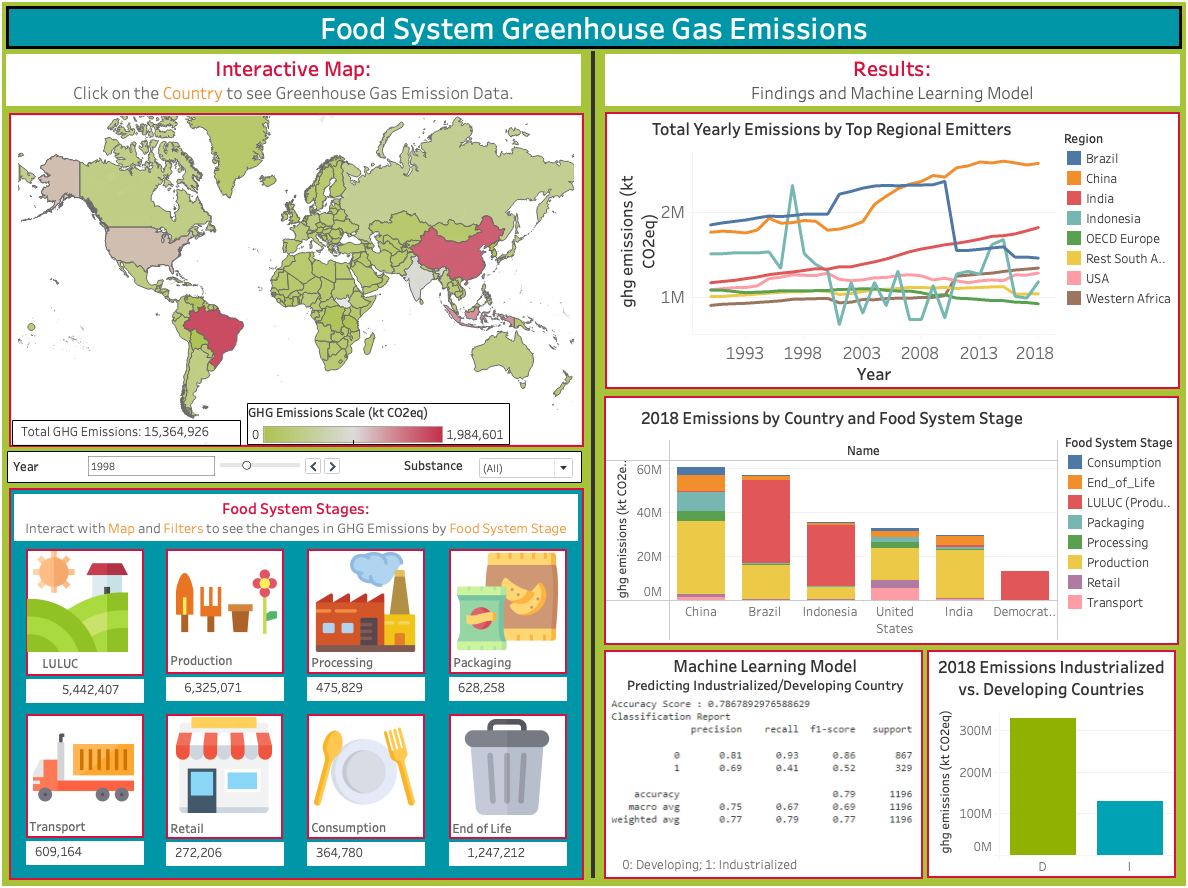

Layout of this report page (visuals, bound fields, positions):
{"tool":"tableau","page":{"name":"Food System Greenhouse Gas Emissions","canvas":[1200,900],"ordinal":0},"visuals":[{"type":"title","box":[8,8,1184,51]},{"type":"blank","box":[597,57,4,827]},{"type":"text","box":[12,60,575,52]},{"type":"text","box":[611,60,575,52]},{"type":"blank","box":[611,118,575,277]},{"type":"worksheet","title":"Yearly Emissions Heatmap","mark":"Automatic","box":[15,119,575,334]},{"type":"worksheet","title":"GhG Emissions Total grouped by year","mark":"Automatic","rows":["ghg_emissions (kt CO2eq)"],"cols":["year"],"box":[614,120,448,271]},{"type":"legend","title":"GhG Emissions Total grouped by year","param":"[federated.14hubyx009gc2x13z5pop1h8nzz4].[none:Region:nk]","box":[1070,136,112,225]},{"type":"blank","box":[610,402,575,249]},{"type":"legend","title":"Yearly Emissions Heatmap","param":"[federated.14hubyx009gc2x13z5pop1h8nzz4].[sum:ghg_emissions (kt CO2eq):qk]","box":[253,409,263,42]},{"type":"worksheet","title":"Top 5 Emitters by Food System Stage","mark":"Automatic","rows":["ghg_emissions (kt CO2eq)"],"cols":["Top Emitters by Country","Calculation_2232870681736089600","Name"],"box":[612,409,452,238]},{"type":"worksheet","title":"Summary","mark":"Automatic","box":[18,426,229,26]},{"type":"legend","title":"Top 5 Emitters by Food System Stage","param":"[federated.14hubyx009gc2x13z5pop1h8nzz4].[none:Food_System_Stage:nk]","box":[1071,440,112,200]},{"type":"blank","box":[13,457,575,32]},{"type":"filter","title":"Yearly Emissions Heatmap","param":"[federated.14hubyx009gc2x13z5pop1h8nzz4].[none:Substance:nk]","box":[410,461,172,26]},{"type":"filter","title":"Yearly Emissions Heatmap","param":"[federated.14hubyx009gc2x13z5pop1h8nzz4].[yr:year:ok]","box":[19,462,331,23]},{"type":"blank","box":[15,494,575,392]},{"type":"text","box":[20,500,564,47]},{"type":"text","box":[615.6,506.2,546.8,72]},{"type":"text","box":[390,528,63,19]},{"type":"blank","box":[32,555,118,127]},{"type":"blank","box":[172,555,118,125]},{"type":"blank","box":[313,555,118,125]},{"type":"blank","box":[455,555,118,125]},{"type":"image","param":"Image/farm.png","box":[33,557,102,101]},{"type":"image","param":"Image/tools.png","box":[182,557,102,101]},{"type":"image","param":"Image/factory.png","box":[321,557,102,101]},{"type":"image","param":"Image/snacks.png","box":[462,557,103,101]},{"type":"text","box":[174,650,105,33]},{"type":"text","box":[315,651,104,34]},{"type":"text","box":[457,651,104,34]},{"type":"text","box":[46,653,104,33]},{"type":"image","param":"Image/2018.png","box":[610,656,319,229]},{"type":"worksheet","title":"Industrialized Vs Developing","mark":"Bar","rows":["ghg_emissions (kt CO2eq)"],"cols":["Country_class"],"box":[933,656,249,228]},{"type":"text","box":[619,659,305,43]},{"type":"worksheet","title":"Production","mark":"Automatic","box":[172,683,118,24]},{"type":"worksheet","title":"Processing","mark":"Automatic","box":[313,683,118,24]},{"type":"worksheet","title":"Packaging","mark":"Automatic","box":[455,683,118,24]},{"type":"worksheet","title":"LULUC","mark":"Automatic","box":[32,685,118,24]},{"type":"blank","box":[32,720,118,124]},{"type":"blank","box":[172,720,117,125]},{"type":"blank","box":[313,720,118,125]},{"type":"blank","box":[455,720,118,125]},{"type":"image","param":"Image/894483.png","box":[320,722,102,101]},{"type":"image","param":"Image/tank-truck.png","box":[39,723,102,101]},{"type":"image","param":"Image/store.png","box":[182,723,96,97]},{"type":"image","param":"Image/bin.png","box":[465,724,96,98]},{"type":"text","box":[33,815,104,34]},{"type":"text","box":[315,816,104,34]},{"type":"text","box":[174,817,104,34]},{"type":"text","box":[456,818,104,33]},{"type":"worksheet","title":"Transport","mark":"Automatic","box":[32,847,118,24]},{"type":"worksheet","title":"Retail","mark":"Automatic","box":[172,848,118,24]},{"type":"worksheet","title":"Consumption","mark":"Automatic","box":[313,848,118,24]},{"type":"worksheet","title":"End of Life","mark":"Automatic","box":[455,848,118,24]},{"type":"text","box":[626,858,293,24]}]}

Visuals, with their boxes in screenshot pixels (x1, y1, x2, y2), scaled from the page's 1200x900 canvas onto the 1188x888 screenshot:
title: l=8, t=8, r=1180, b=58
blank: l=591, t=56, r=595, b=872
text: l=12, t=59, r=581, b=111
text: l=605, t=59, r=1174, b=111
blank: l=605, t=116, r=1174, b=390
"Yearly Emissions Heatmap" worksheet: l=15, t=117, r=584, b=447
"GhG Emissions Total grouped by year" worksheet: l=608, t=118, r=1051, b=386
"GhG Emissions Total grouped by year" legend: l=1059, t=134, r=1170, b=356
blank: l=604, t=397, r=1173, b=642
"Yearly Emissions Heatmap" legend: l=250, t=404, r=511, b=445
"Top 5 Emitters by Food System Stage" worksheet: l=606, t=404, r=1053, b=638
"Summary" worksheet: l=18, t=420, r=245, b=446
"Top 5 Emitters by Food System Stage" legend: l=1060, t=434, r=1171, b=631
blank: l=13, t=451, r=582, b=482
"Yearly Emissions Heatmap" filter: l=406, t=455, r=576, b=481
"Yearly Emissions Heatmap" filter: l=19, t=456, r=346, b=479
blank: l=15, t=487, r=584, b=874
text: l=20, t=493, r=578, b=540
text: l=609, t=499, r=1151, b=570
text: l=386, t=521, r=448, b=540
blank: l=32, t=548, r=148, b=673
blank: l=170, t=548, r=287, b=671
blank: l=310, t=548, r=427, b=671
blank: l=450, t=548, r=567, b=671
image: l=33, t=550, r=134, b=649
image: l=180, t=550, r=281, b=649
image: l=318, t=550, r=419, b=649
image: l=457, t=550, r=559, b=649
text: l=172, t=641, r=276, b=674
text: l=312, t=642, r=415, b=676
text: l=452, t=642, r=555, b=676
text: l=46, t=644, r=148, b=677
image: l=604, t=647, r=920, b=873
"Industrialized Vs Developing" worksheet (Bar marks): l=924, t=647, r=1170, b=872
text: l=613, t=650, r=915, b=693
"Production" worksheet: l=170, t=674, r=287, b=698
"Processing" worksheet: l=310, t=674, r=427, b=698
"Packaging" worksheet: l=450, t=674, r=567, b=698
"LULUC" worksheet: l=32, t=676, r=148, b=700
blank: l=32, t=710, r=148, b=833
blank: l=170, t=710, r=286, b=834
blank: l=310, t=710, r=427, b=834
blank: l=450, t=710, r=567, b=834
image: l=317, t=712, r=418, b=812
image: l=39, t=713, r=140, b=813
image: l=180, t=713, r=275, b=809
image: l=460, t=714, r=555, b=811
text: l=33, t=804, r=136, b=838
text: l=312, t=805, r=415, b=839
text: l=172, t=806, r=275, b=840
text: l=451, t=807, r=554, b=840
"Transport" worksheet: l=32, t=836, r=148, b=859
"Retail" worksheet: l=170, t=837, r=287, b=860
"Consumption" worksheet: l=310, t=837, r=427, b=860
"End of Life" worksheet: l=450, t=837, r=567, b=860
text: l=620, t=847, r=910, b=870
